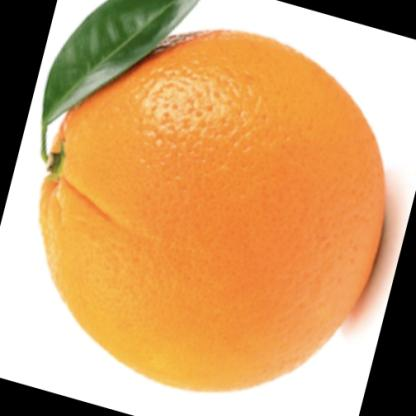fresh: (40, 31, 385, 391)
